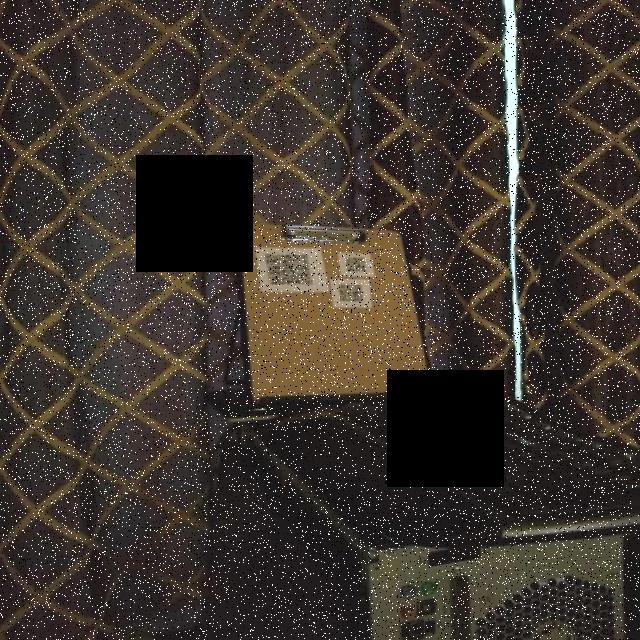QR_CODE: (260, 249, 318, 295), (334, 281, 370, 309), (343, 252, 372, 276)
